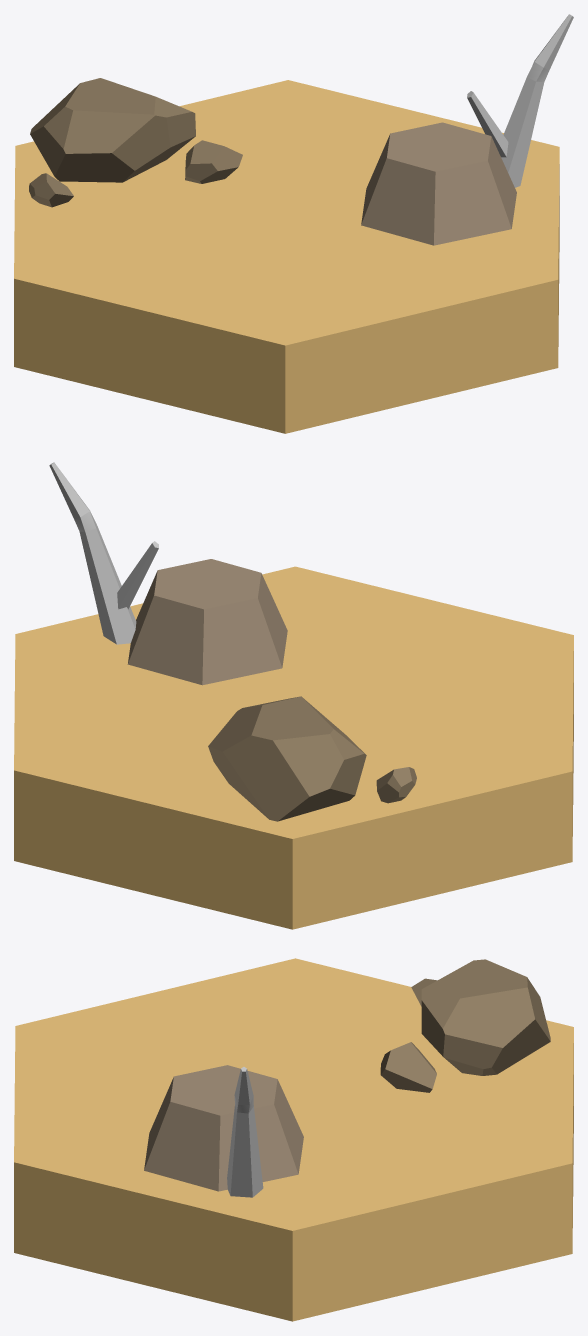
3 views of the same model, one above another, from view 1: azimuth 30°, elevation 25°; view 2: azimuth 150°, elevation 25°; view 3: azimuth 270°, elevation 25° (orthographic). The views are drawn at different scales.
Visible parts, largest first — view 1: 物件_1, 物件_10, 物件_3, 物件_9, 物件_12, 物件_13, 物件_7, 物件_8; view 2: 物件_1, 物件_10, 物件_3, 物件_9, 物件_13, 物件_7, 物件_8; view 3: 物件_1, 物件_10, 物件_3, 物件_9, 物件_12, 物件_8.
Part boxes in pixels (x1,y1,x2,y2): 物件_1: (14,80,559,433); 物件_10: (361,122,516,245); 物件_3: (30,78,195,182); 物件_9: (501,77,544,187); 物件_12: (185,140,242,183); 物件_13: (29,173,73,207); 物件_7: (467,91,508,157); 物件_8: (534,14,573,70); 物件_1: (14,566,573,929); 物件_10: (127,559,287,685); 物件_3: (208,696,366,821); 物件_9: (79,525,136,644); 物件_13: (376,767,416,803); 物件_7: (117,541,158,609); 物件_8: (49,462,89,519); 物件_1: (14,958,573,1321); 物件_10: (144,1065,303,1191); 物件_3: (421,959,550,1075); 物件_9: (227,1105,263,1197); 物件_12: (380,1042,436,1092); 物件_8: (234,1067,253,1104).
Size of the model in its own units: 129 by 112 by 54.71.
